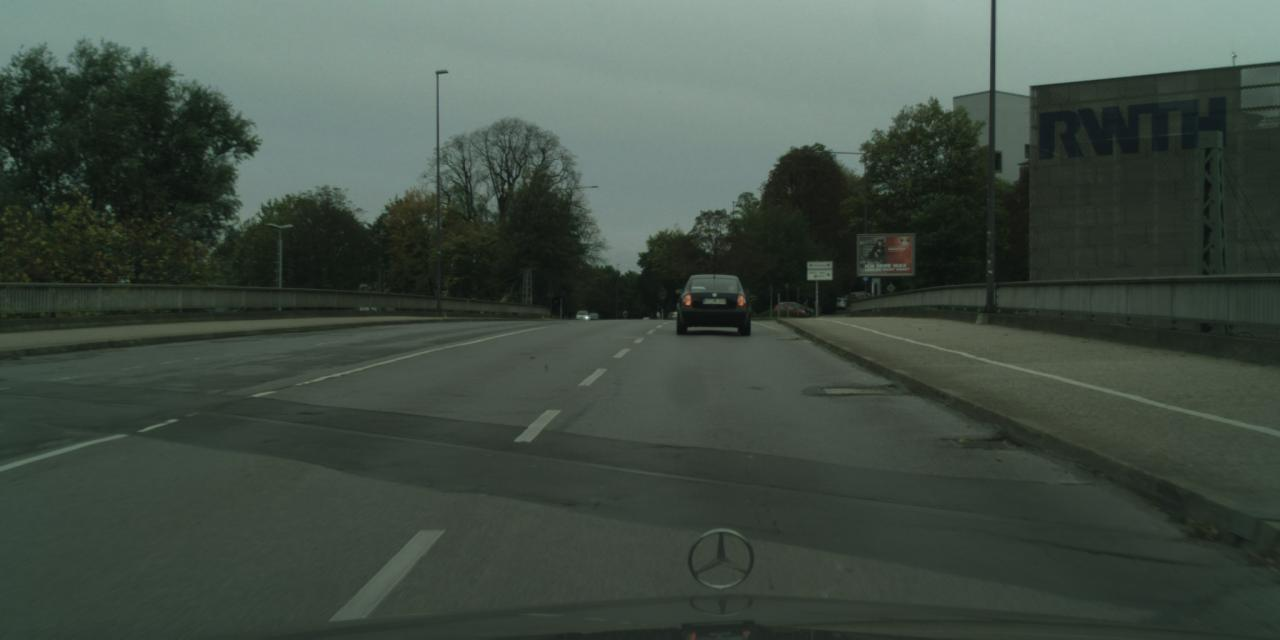ped: (802, 298, 809, 314), (654, 302, 660, 318)
